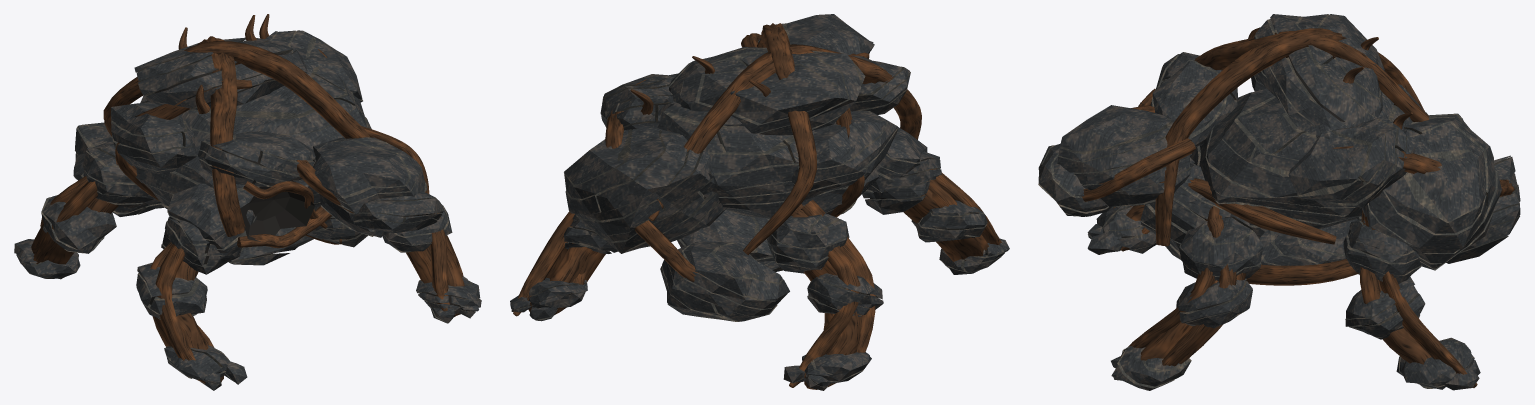
The model's file is riftroot_tangle.glb.
3 views of the same model, side by side, from view 1: azimuth 30°, elevation 25°; view 2: azimuth 150°, elevation 25°; view 3: azimuth 270°, elevation 25° (orthographic). The views are drawn at different scales.
Visible parts, largest first — view 1: Main fused shale carapace, Lifting wedge central face, Crown shear slab, Crossing braid, Cavity crooked brow, Left shell spur, Main scar root, Left cavity jaw, Wedge pointed outer lamina, Rear_Left low knee shell, Rear_Left shoulder shale, Asymmetric exposed cavity (+22 smaller); view 2: Rear shell mass, Crown shear slab, Main fused shale carapace, Rear dragged stone, Left shell spur, Main scar root, Crossing braid, Rear_Left shoulder shale, Right shell spur, Lifting wedge central face, Front_Left shoulder shale, Submerged underside keel (+18 smaller); view 3: Rear shell mass, Main fused shale carapace, Crown shear slab, Lifting wedge central face, Right shell spur, Crossing braid, Front_Right shoulder shale, Cavity crooked brow, Main scar root, Rear_Right shoulder shale, Submerged underside keel, Right broken breast slab (+19 smaller).
Part boxes in pixels (box(x1,y1,x2,y2)): Main fused shale carapace: box(135, 57, 371, 209); Lifting wedge central face: box(308, 137, 427, 214); Crown shear slab: box(134, 37, 307, 110); Crossing braid: box(103, 41, 369, 138); Cavity crooked brow: box(198, 131, 315, 186); Left shell spur: box(111, 102, 196, 173); Main scar root: box(197, 36, 245, 236); Left cavity jaw: box(167, 183, 256, 257); Wedge pointed outer lamina: box(348, 190, 443, 233); Rear_Left low knee shell: box(41, 195, 116, 253); Rear_Left shoulder shale: box(80, 141, 154, 208); Asymmetric exposed cavity: box(240, 186, 314, 241); Rear shell mass: box(564, 126, 726, 253); Crown shear slab: box(668, 47, 865, 135); Main fused shale carapace: box(648, 73, 879, 218); Rear dragged stone: box(660, 241, 789, 321); Left shell spur: box(791, 110, 898, 200); Main scar root: box(648, 44, 921, 220); Crossing braid: box(743, 23, 816, 254); Rear_Left shoulder shale: box(767, 213, 849, 273); Right shell spur: box(600, 74, 674, 130); Lifting wedge central face: box(758, 14, 874, 54); Front_Left shoulder shale: box(862, 151, 941, 214); Submerged underside keel: box(677, 209, 782, 271); Rear shell mass: box(1357, 113, 1501, 270); Main fused shale carapace: box(1190, 84, 1428, 229); Crown shear slab: box(1254, 14, 1385, 129); Lifting wedge central face: box(1057, 105, 1191, 207); Right shell spur: box(1288, 116, 1415, 207); Crossing braid: box(1155, 28, 1424, 246); Front_Right shoulder shale: box(1179, 216, 1263, 281); Cavity crooked brow: box(1150, 52, 1237, 146); Main scar root: box(1194, 31, 1429, 121); Rear_Right shoulder shale: box(1343, 219, 1421, 283); Submerged underside keel: box(1259, 218, 1357, 265); Right broken breast slab: box(1140, 162, 1264, 259).
Bounding box in the file's own units: 4.23 × 3.1 × 4.97.
Materials: 4 (3 with a texture image).
